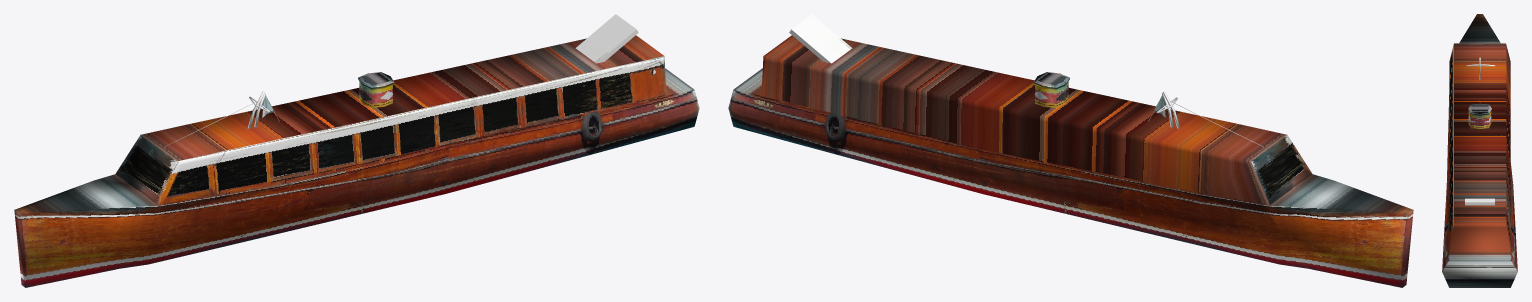
The model's file is LanchaColectiva.glb.
3 views of the same model, side by side, from view 1: azimuth 30°, elevation 25°; view 2: azimuth 150°, elevation 25°; view 3: azimuth 270°, elevation 25° (orthographic). The views are drawn at different scales.
Visible parts, largest first — view 1: LanchaColectiva, Cube.056, Cube.057, Cube.055; view 2: LanchaColectiva, Cube.056, Cube.057, Cube.055; view 3: LanchaColectiva, Cube.057, Cube.056, Cube.055.
Boxes of the visible parts, x1,y1,x2,y2 form: LanchaColectiva: (14,35,699,287); Cube.056: (575,14,638,63); Cube.057: (358,72,394,107); Cube.055: (164,91,279,146); LanchaColectiva: (728,35,1413,287); Cube.056: (789,14,852,63); Cube.057: (1033,72,1069,107); Cube.055: (1148,91,1263,146); LanchaColectiva: (1442,14,1517,287); Cube.057: (1468,103,1491,129); Cube.056: (1465,198,1494,205); Cube.055: (1466,57,1494,79).
Size of the model in its own units: 1.78 by 0.3537 by 0.2471.
1 material, 1 textured.
